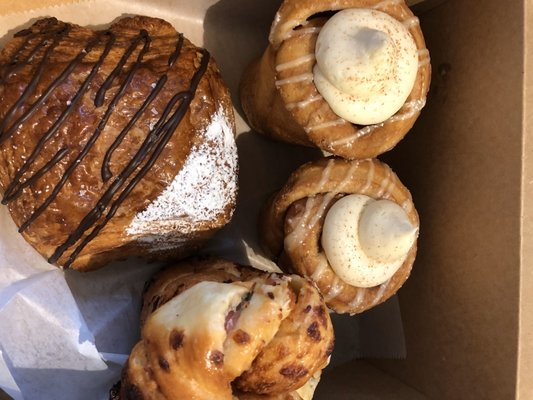pasta: (312, 6, 420, 126)
